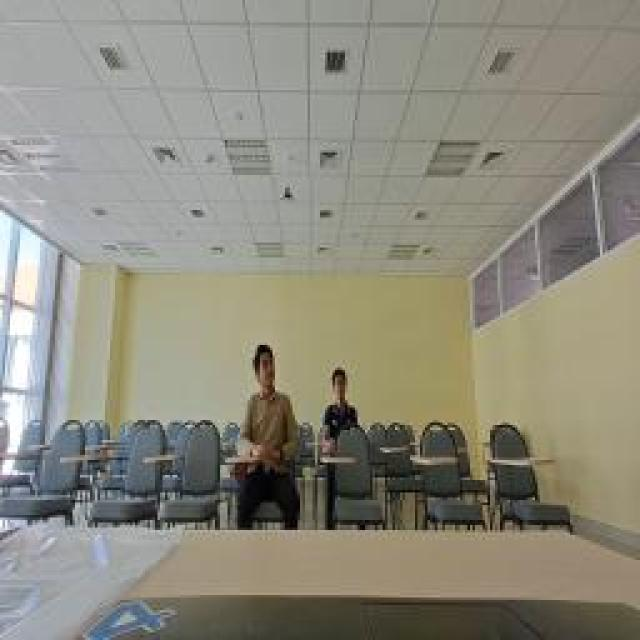study: (238, 342, 300, 532), (320, 365, 362, 455)
